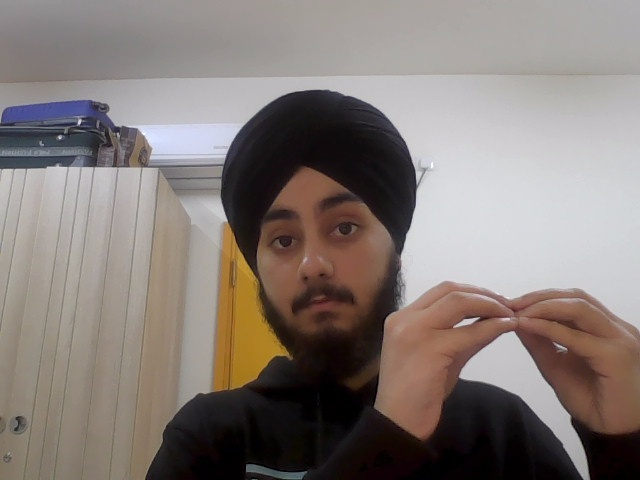More: (374, 271, 640, 437)
